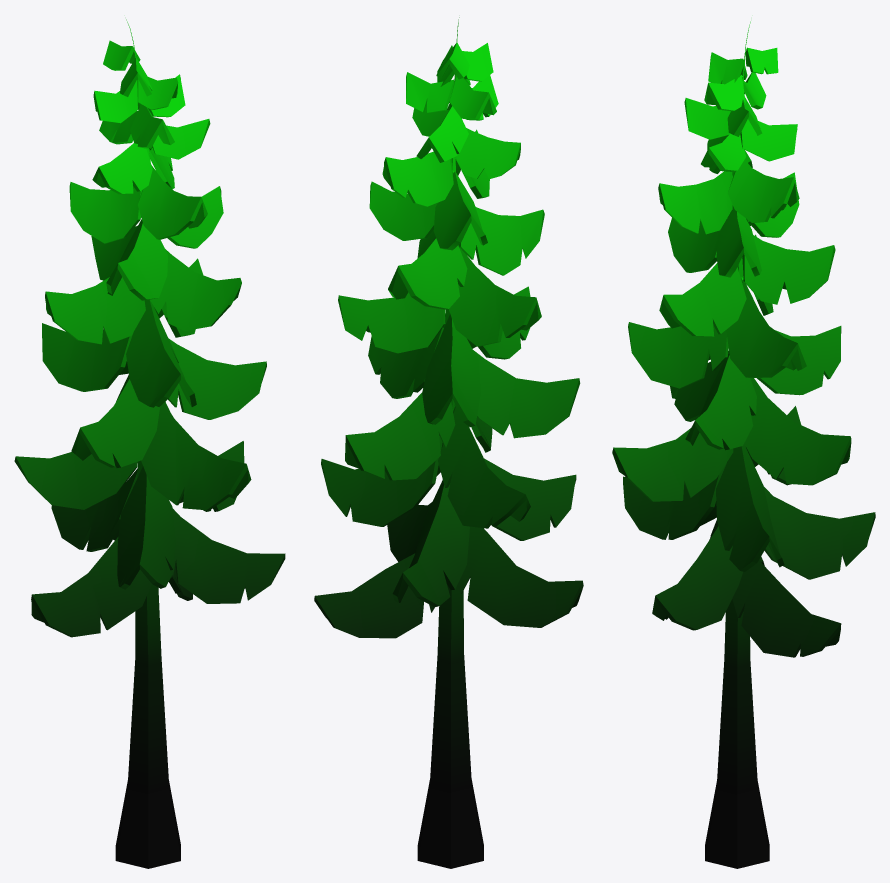
File: SM_Tree_Pine_02.fbx
3 views of the same model, side by side, from view 1: azimuth 30°, elevation 25°; view 2: azimuth 150°, elevation 25°; view 3: azimuth 270°, elevation 25° (orthographic). The views are drawn at different scales.
Parts seen in each view (by area): view 1: SM_Tree_Pine_02_LOD0; view 2: SM_Tree_Pine_02_LOD0; view 3: SM_Tree_Pine_02_LOD0.
Part boxes in pixels (x1,y1,x2,y2): SM_Tree_Pine_02_LOD0: (14,19,285,868); SM_Tree_Pine_02_LOD0: (314,17,583,868); SM_Tree_Pine_02_LOD0: (612,21,875,868).
Bounding box in the file's own units: 359 × 1216 × 350.
